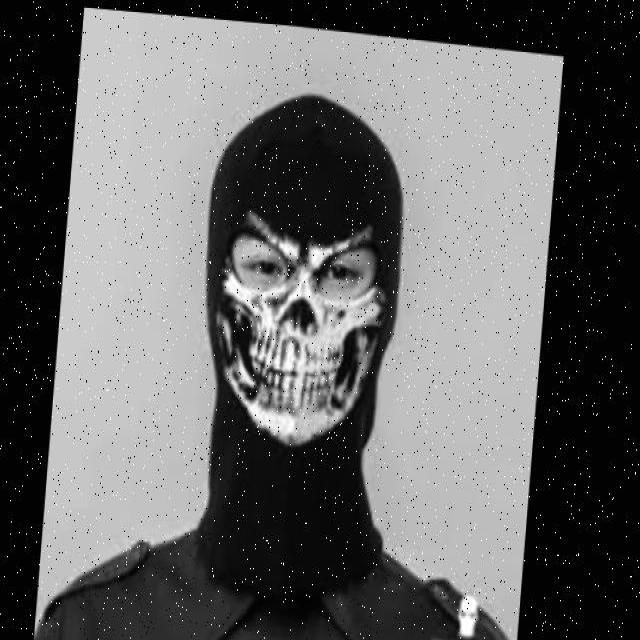6_pasamontana: (194, 95, 404, 608)
